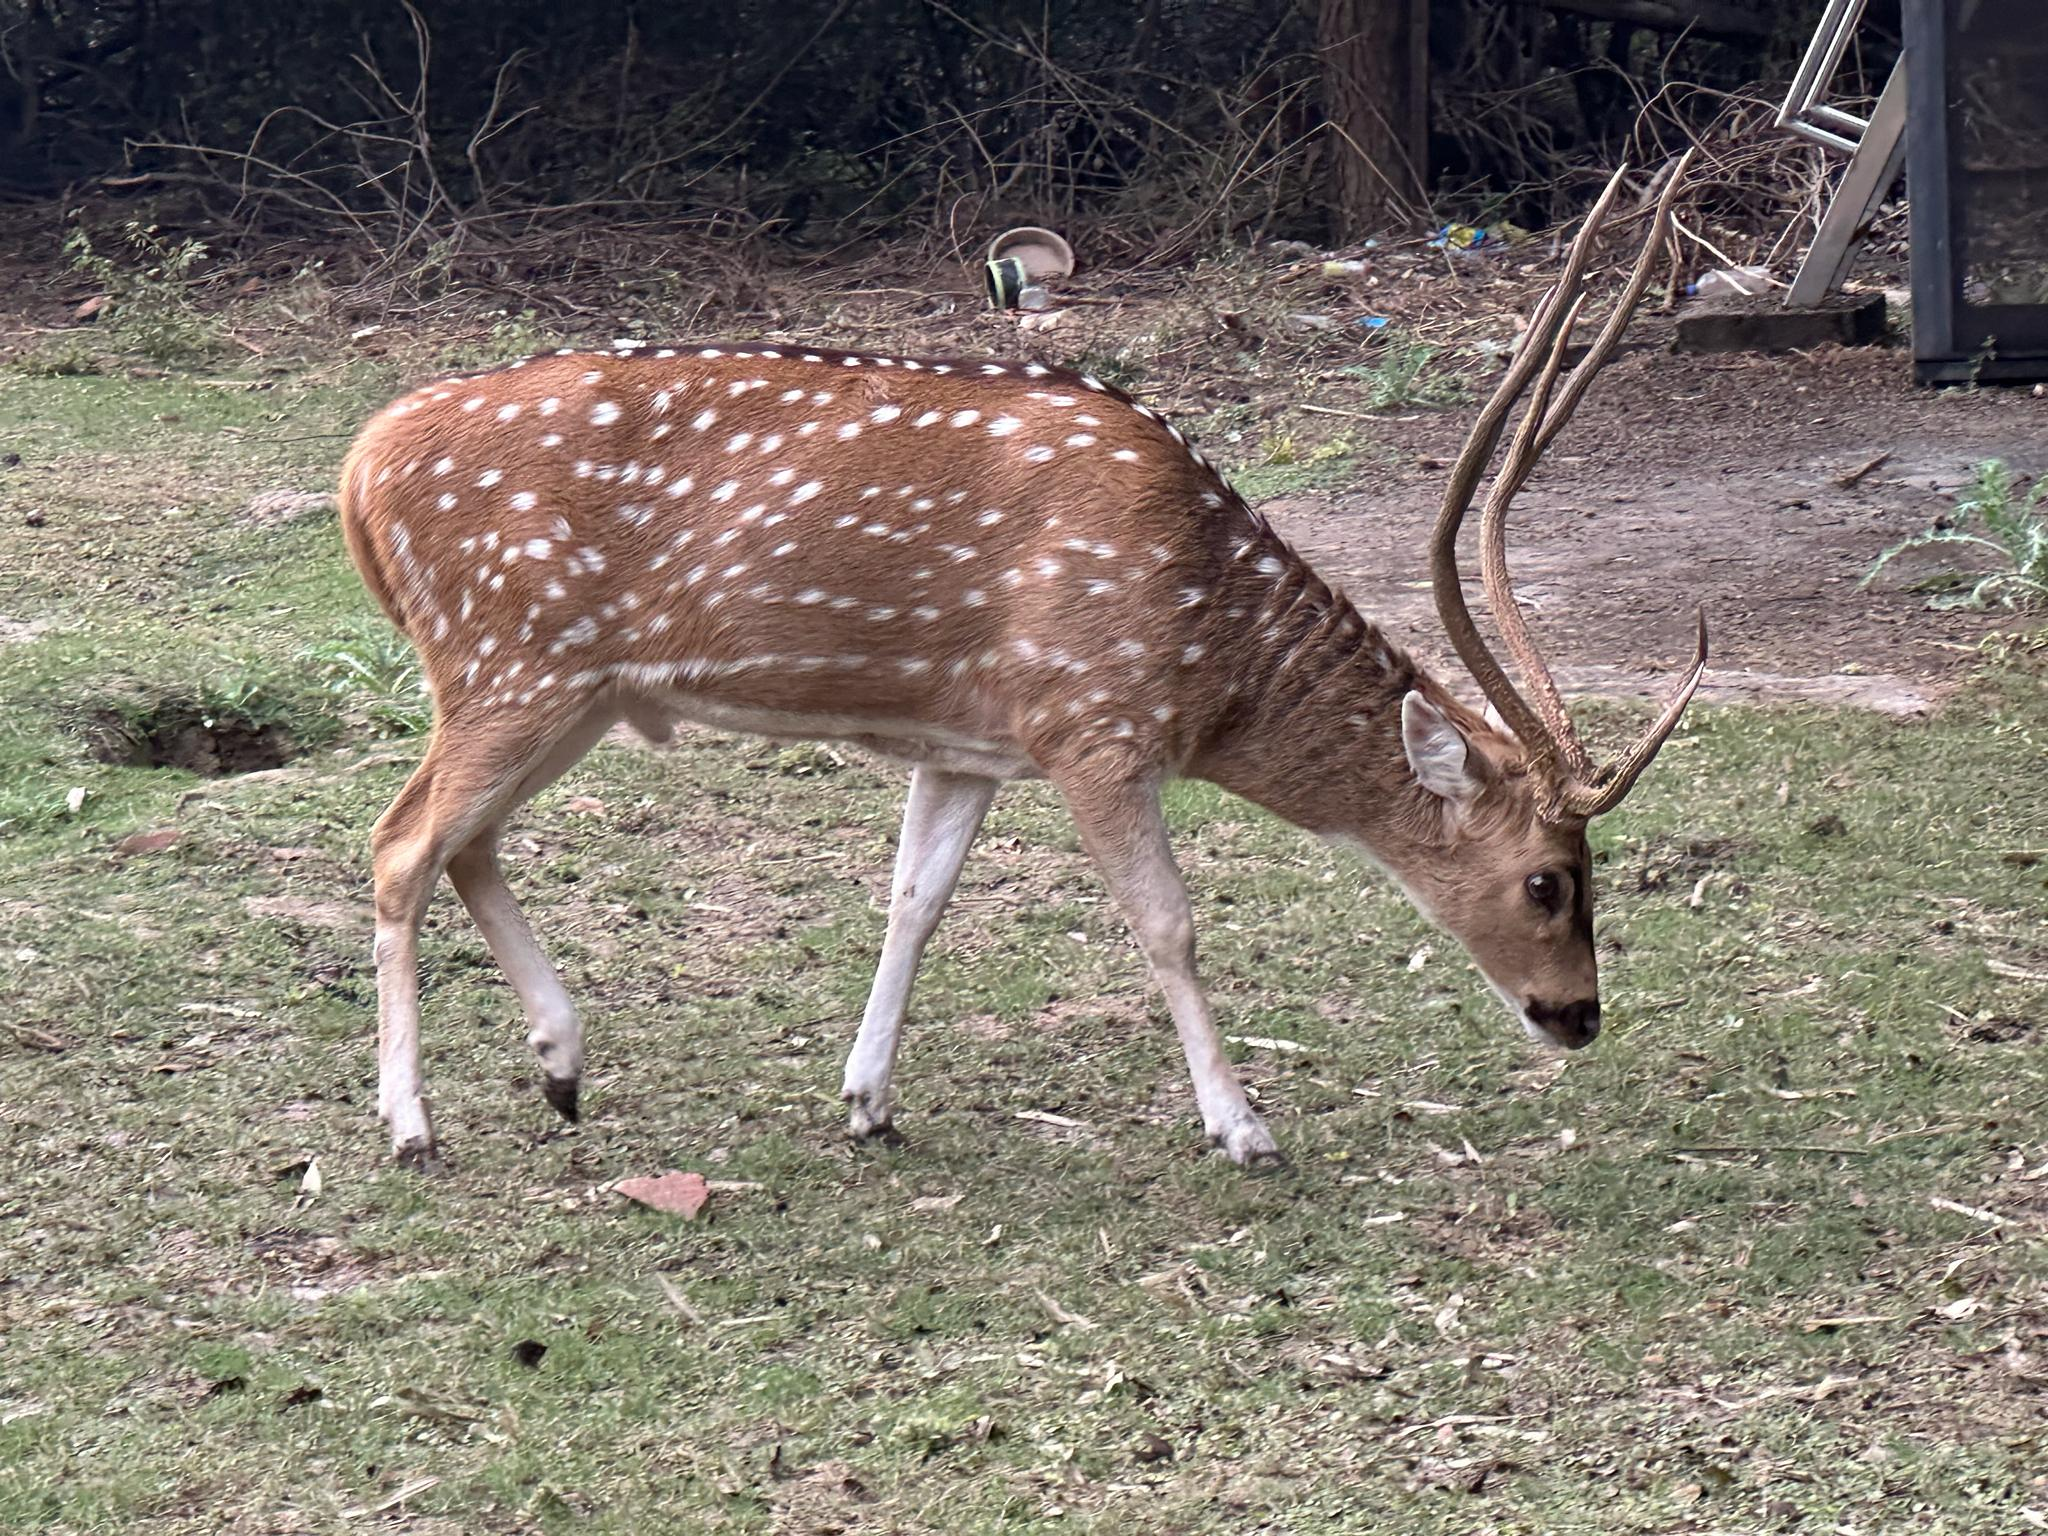Deer: (339, 147, 1705, 1163)
